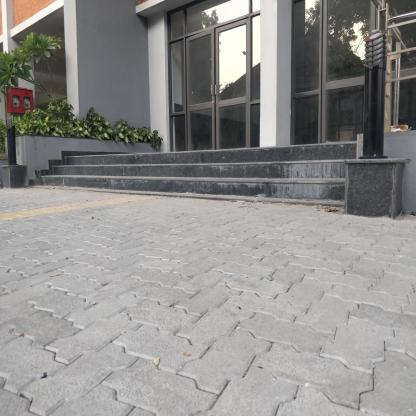stairs: (190, 144, 343, 212)
